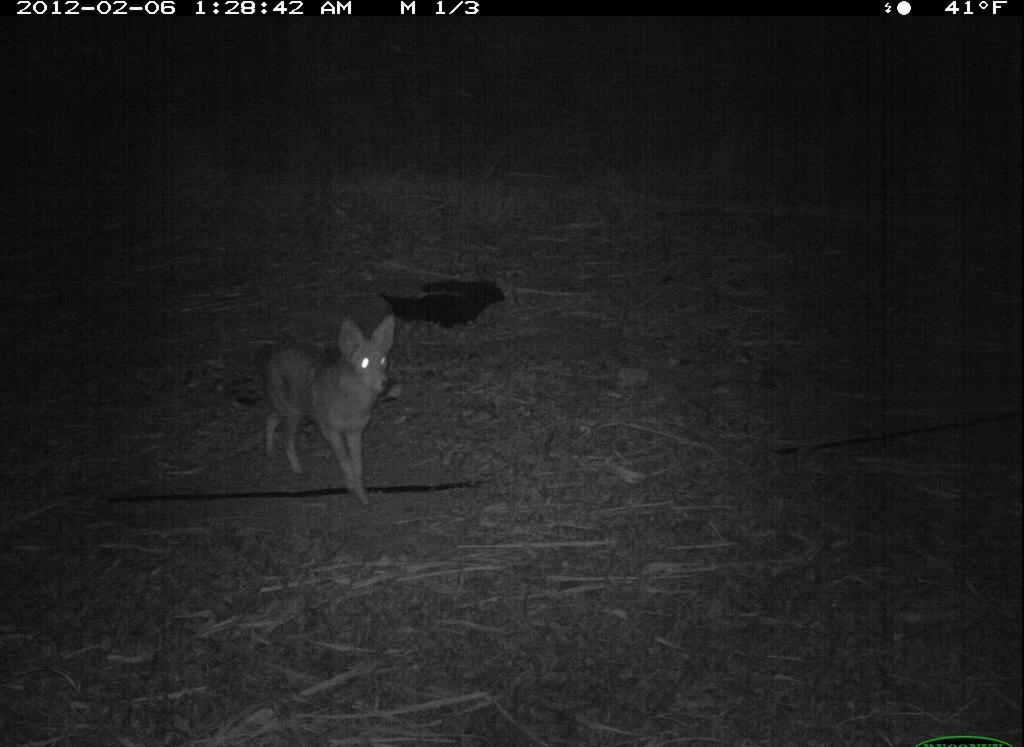coyote: (219, 310, 413, 518)
